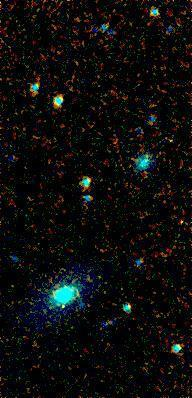star: (48, 290, 78, 320)
